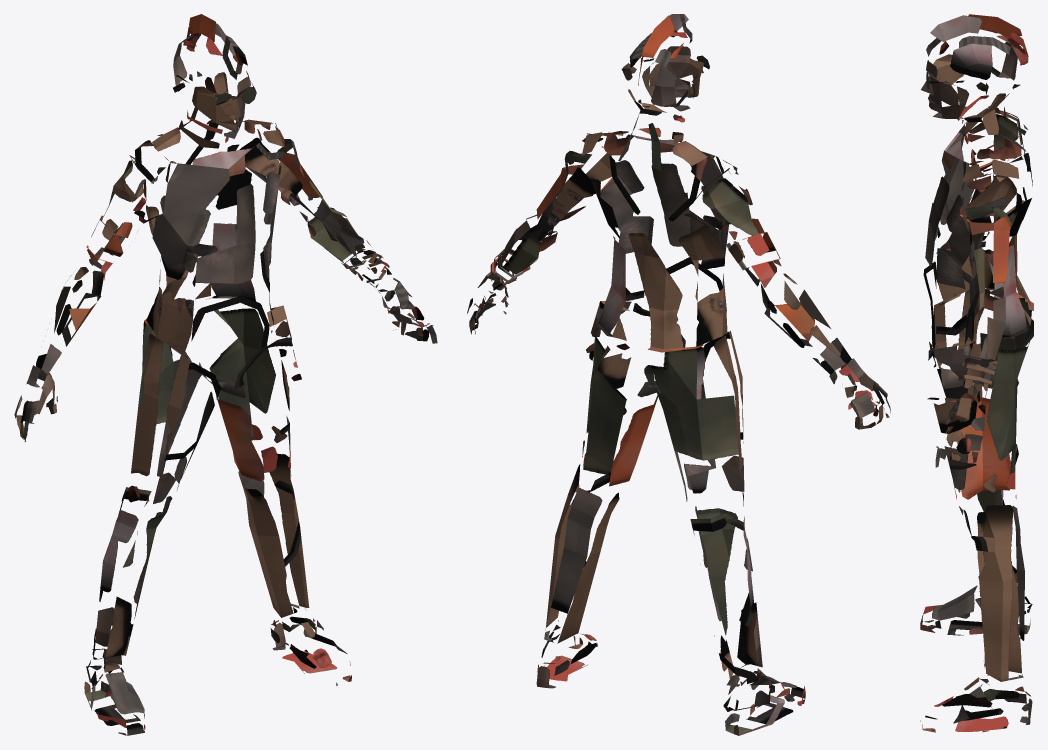
Rendered from Player_2.fbx.
The picture shows the model from 3 angles, left to right: view 1: azimuth 30°, elevation 25°; view 2: azimuth 150°, elevation 25°; view 3: azimuth 270°, elevation 25°; orthographic projection.
Visible parts, largest first — view 1: Cube; view 2: Cube; view 3: Cube.
Part boxes in pixels (x1,y1,x2,y2): Cube: [14, 14, 437, 735]; Cube: [467, 14, 890, 735]; Cube: [920, 14, 1033, 732].
Size of the model in its own units: 281 by 435 by 67.8.
